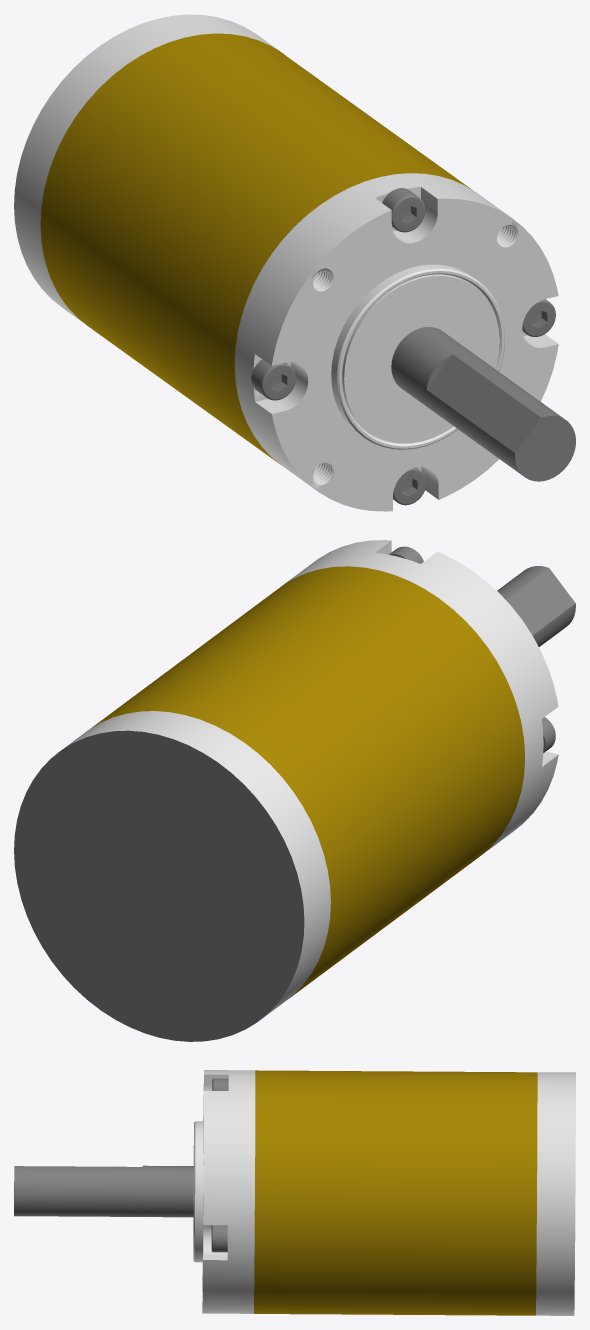
The model's file is Gearbox (b).fbx.
The picture shows the model from 3 angles, top to bottom: view 1: azimuth 30°, elevation 25°; view 2: azimuth 150°, elevation 25°; view 3: azimuth 270°, elevation 25°; orthographic projection. The views are drawn at different scales.
Parts seen in each view (by area): view 1: Gearbox.001; view 2: Gearbox.001; view 3: Gearbox.001.
Boxes of the visible parts, x1,y1,x2,y2 form: Gearbox.001: (14, 14, 575, 511); Gearbox.001: (14, 540, 575, 1041); Gearbox.001: (14, 1070, 575, 1315).
Size of the model in its own units: 3.33 by 3.35 by 7.59.
